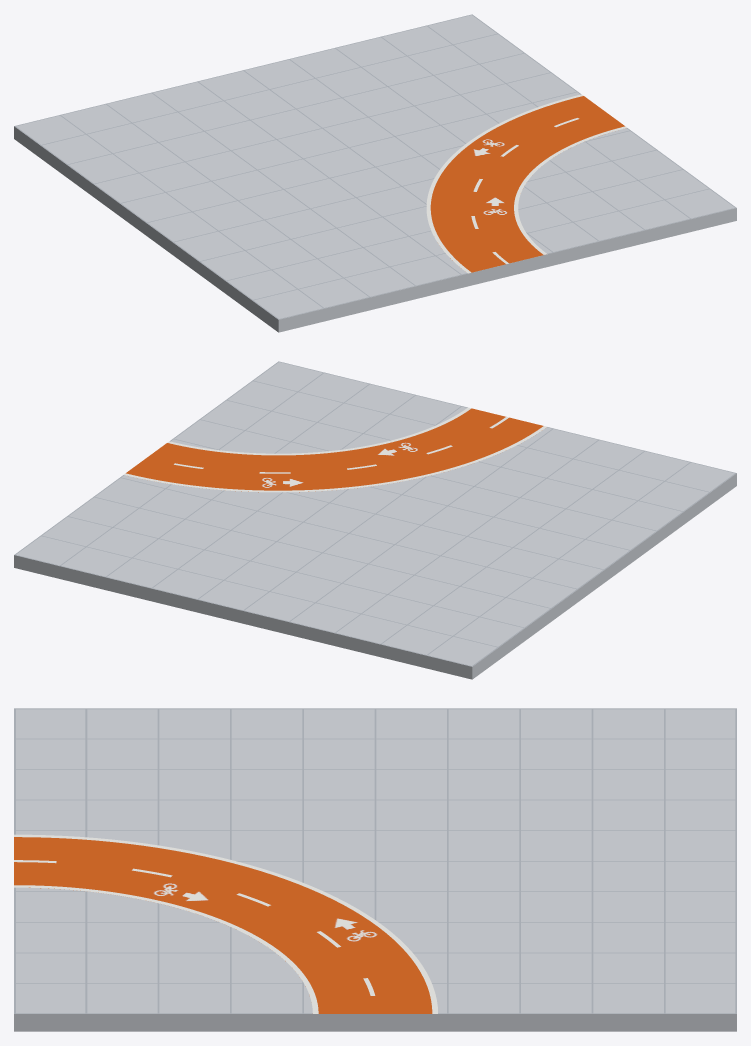
The model's file is ciclovia_curva.glb.
3 renders of one model, top to bottom at view 1: azimuth 30°, elevation 25°; view 2: azimuth 150°, elevation 25°; view 3: azimuth 270°, elevation 25°, orthographic. The views are drawn at different scales.
Visible parts, largest first — view 1: ciclovia_curva; view 2: ciclovia_curva; view 3: ciclovia_curva.
Part boxes in pixels (box(x1,y1,x2,y2)): ciclovia_curva: box(14, 14, 736, 332); ciclovia_curva: box(14, 361, 736, 679); ciclovia_curva: box(14, 708, 736, 1031).
Size of the model in its own units: 15 by 0.4045 by 15.
Materials: 2 (2 with a texture image).
